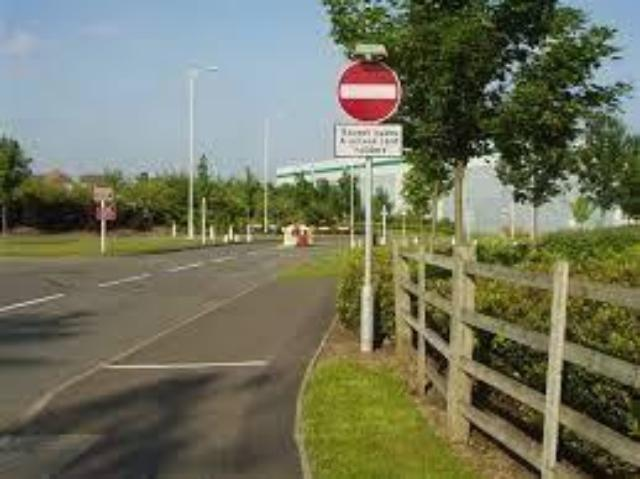B2: (332, 55, 402, 124)
